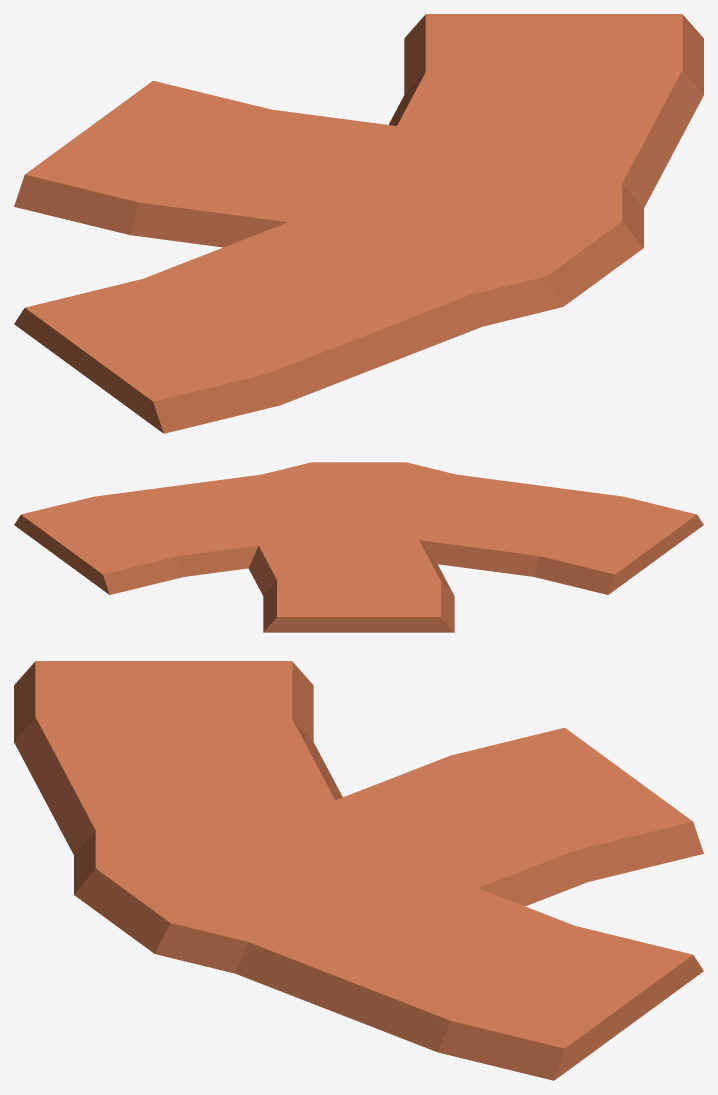
Rendered from path_intersectionA.fbx.
3 views of the same model, one above another, from view 1: azimuth 30°, elevation 25°; view 2: azimuth 150°, elevation 25°; view 3: azimuth 270°, elevation 25° (orthographic). The views are drawn at different scales.
Visible parts, largest first — view 1: path_intersectionA; view 2: path_intersectionA; view 3: path_intersectionA.
Part boxes in pixels (bbox=[...]): path_intersectionA: bbox=[14, 14, 703, 433]; path_intersectionA: bbox=[14, 462, 703, 632]; path_intersectionA: bbox=[14, 661, 703, 1080].
Size of the model in its own units: 8.71 by 0.25 by 6.42.
